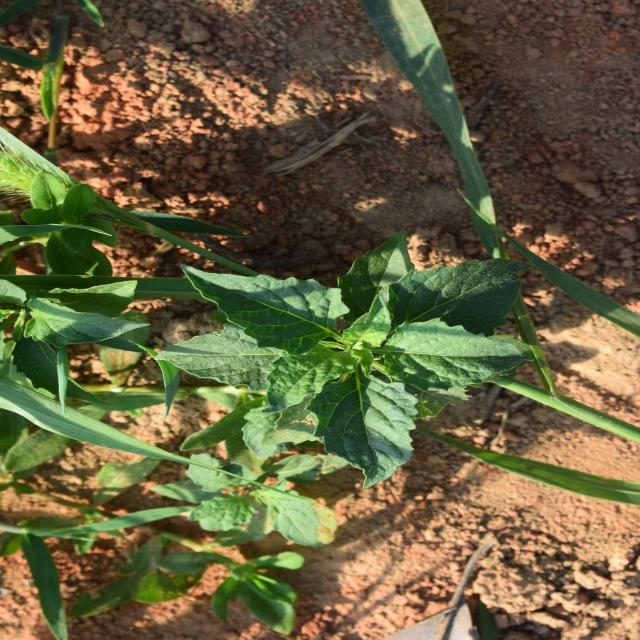Black_nightshade: (182, 167, 396, 526)
